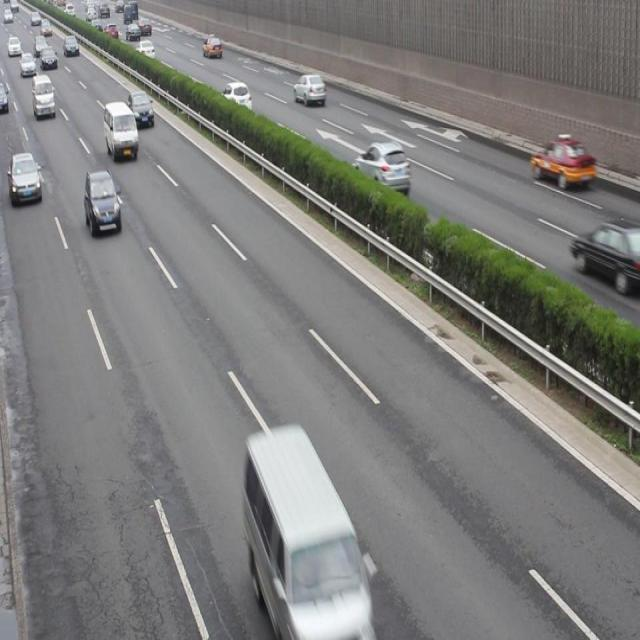car: (567, 217, 640, 291), (529, 137, 596, 194), (354, 137, 410, 196), (84, 168, 122, 235), (9, 150, 41, 207), (216, 80, 252, 118), (127, 88, 155, 126), (293, 73, 324, 106)
truck: (244, 424, 374, 640), (104, 100, 139, 161), (32, 73, 56, 119)
